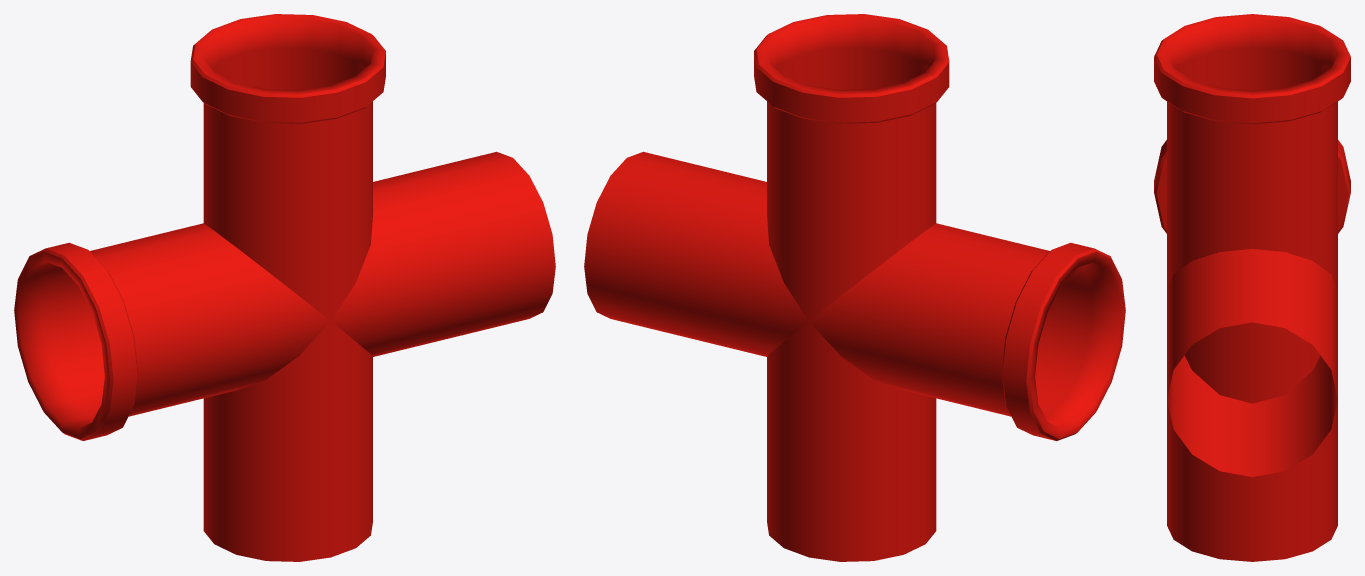
Rendered from SM_Pipe_Four.fbx.
3 views of the same model, side by side, from view 1: azimuth 30°, elevation 25°; view 2: azimuth 150°, elevation 25°; view 3: azimuth 270°, elevation 25° (orthographic).
Visible parts, largest first — view 1: Four; view 2: Four; view 3: Four.
Boxes of the visible parts, x1,y1,x2,y2 form: Four: (14, 14, 555, 561); Four: (584, 14, 1125, 561); Four: (1154, 14, 1350, 561).
Bounding box in the file's own units: 80.47 × 80.47 × 30.47.
